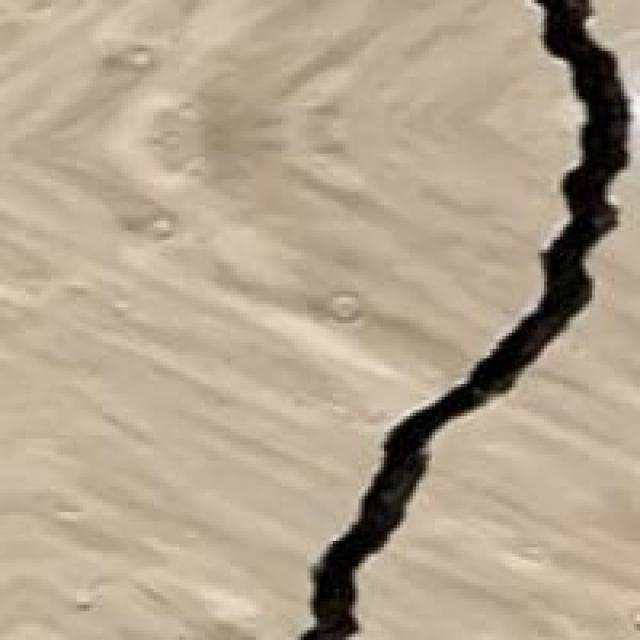Crack: (243, 0, 637, 637)
